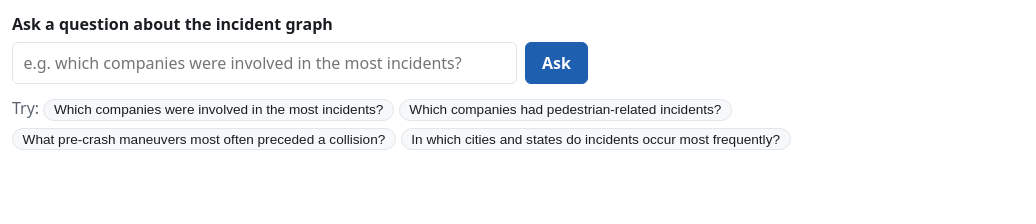
Test: KgAsk › renders a fallback notice (not a crash) when the proxy returns a non-2xx body
Type "long question" into the field labelled "Ask a question about the incident graph".
click(265, 63); type("long question")  # box [12,42,517,84]
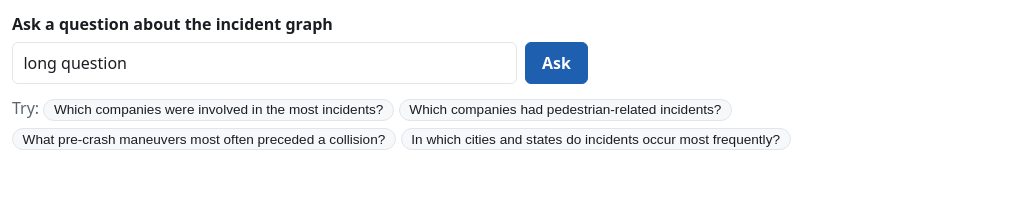
Submit the form, box [12,13,588,84]
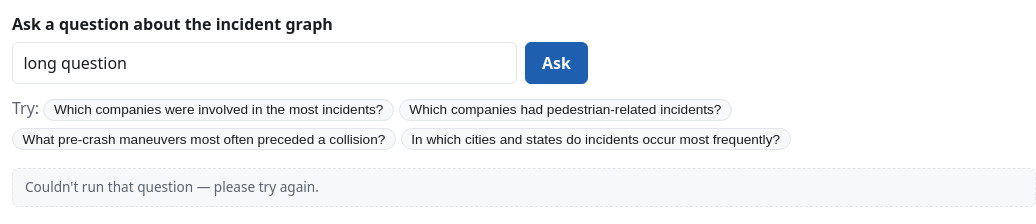
Now the text "Couldn't run that question — please try again." is shown, box [12,168,1035,207]
Now the text "Couldn't run that question" is shown, box [25,177,319,196]
